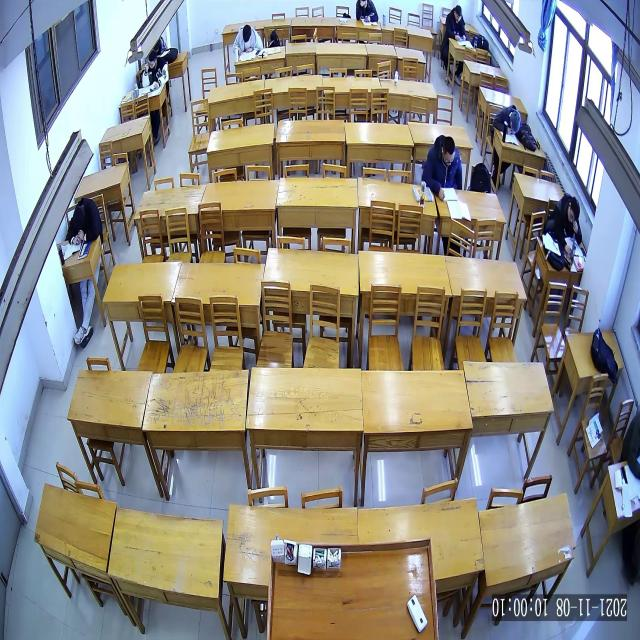bow: (66, 198, 103, 245), (232, 25, 264, 54), (492, 104, 521, 134)
down: (442, 137, 454, 166), (568, 196, 580, 223), (73, 206, 85, 230), (510, 110, 520, 132), (242, 24, 252, 44), (148, 51, 156, 69), (454, 5, 462, 22)
sit: (422, 135, 463, 200), (548, 194, 582, 253), (142, 51, 168, 88), (446, 5, 466, 41)
